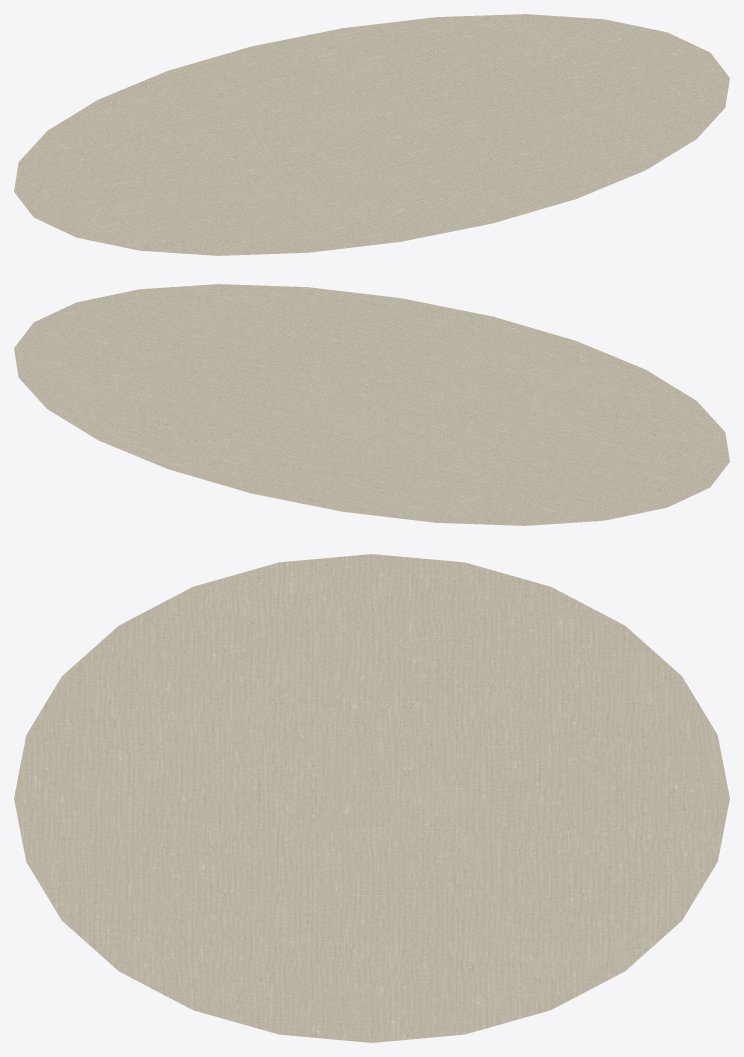
Rendered from tapete.obj.
The picture shows the model from 3 angles, top to bottom: view 1: azimuth 30°, elevation 25°; view 2: azimuth 150°, elevation 25°; view 3: azimuth 270°, elevation 25°; orthographic projection. The views are drawn at different scales.
Parts seen in each view (by area): view 1: pDisc1; view 2: pDisc1; view 3: pDisc1.
Boxes of the visible parts, box(x1,y1,x2,y2) form: pDisc1: box(14, 14, 729, 255); pDisc1: box(14, 284, 729, 525); pDisc1: box(14, 554, 729, 1042).
Bounding box in the file's own units: 8.57 × 0 × 5.3.
Materials: 1 (1 with a texture image).
